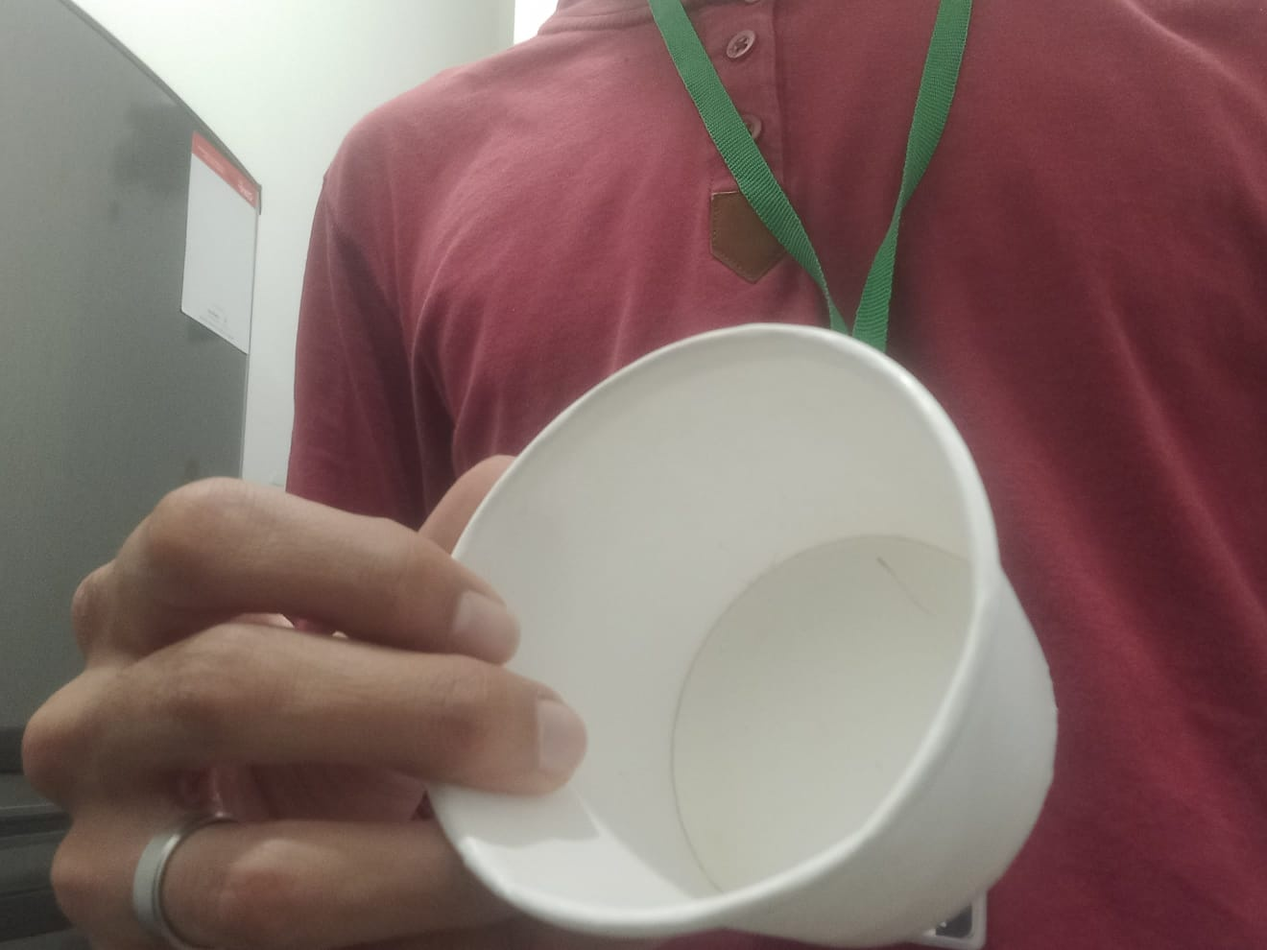Carton: (411, 322, 1059, 946)
